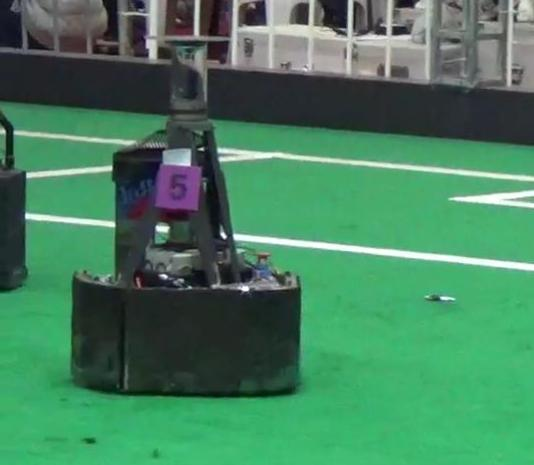robot: (49, 19, 334, 401)
